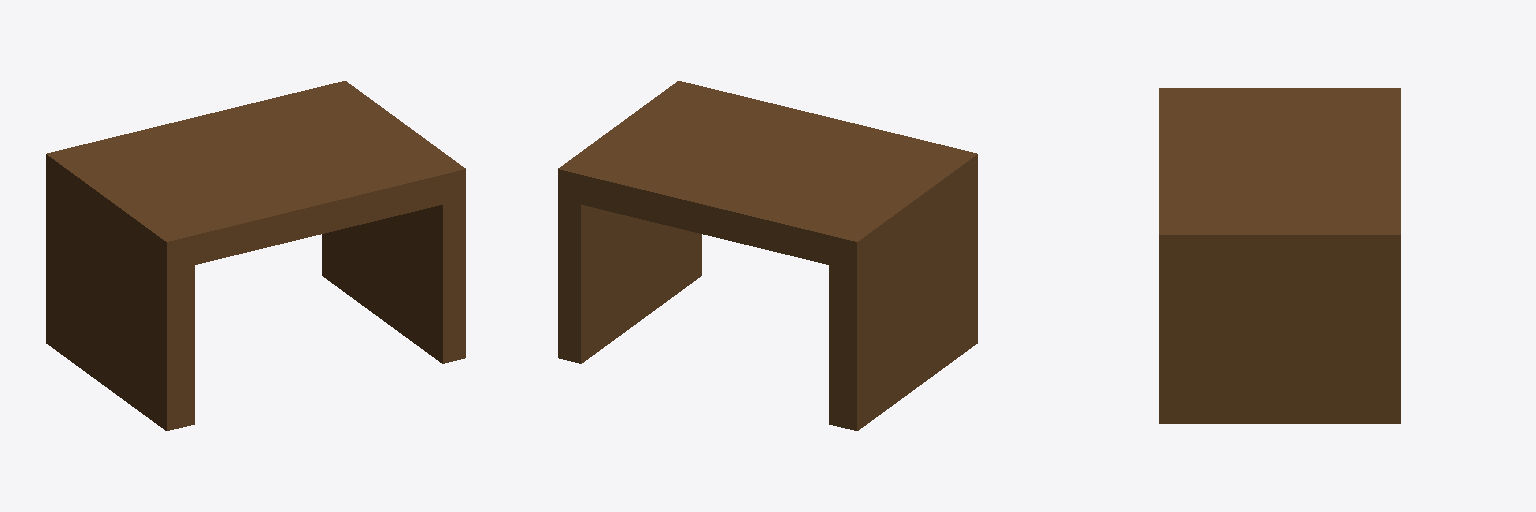
The picture shows the model from 3 angles: view 1: azimuth 30°, elevation 25°; view 2: azimuth 150°, elevation 25°; view 3: azimuth 270°, elevation 25°; orthographic projection.
Parts seen in each view (by area): view 1: Deskkk; view 2: Deskkk; view 3: Deskkk.
Boxes of the visible parts, x1,y1,x2,y2 form: Deskkk: [46, 81, 465, 430]; Deskkk: [558, 81, 977, 430]; Deskkk: [1159, 88, 1400, 423].
Bounding box in the file's own units: 126 × 76 × 88.
Materials: 1 (1 with a texture image).